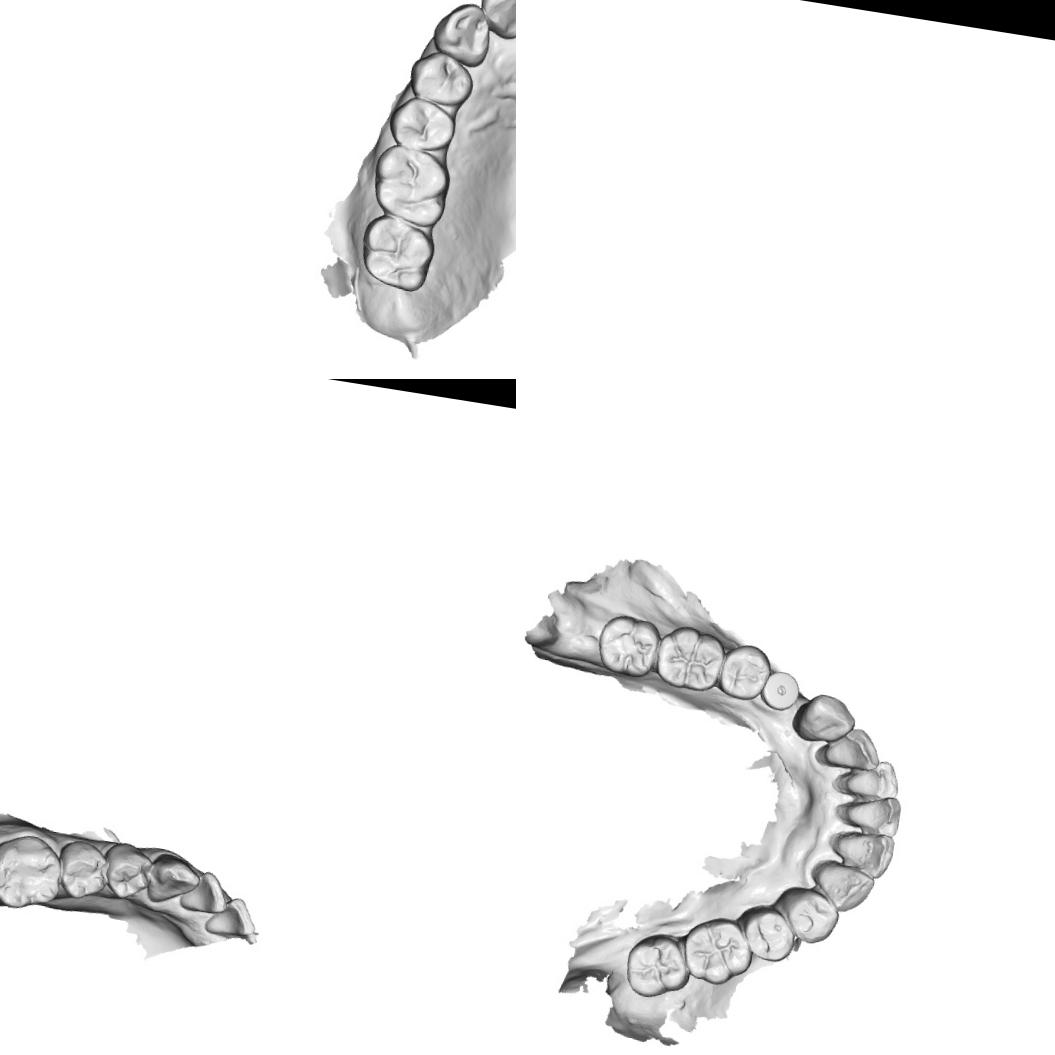canine: (801, 854, 880, 918), (427, 0, 497, 70), (789, 688, 859, 750), (141, 849, 205, 910)
implant: (756, 664, 802, 713)
incisor: (823, 822, 899, 882), (831, 750, 905, 806), (818, 720, 884, 780), (834, 788, 905, 838), (200, 890, 263, 945), (176, 865, 233, 920), (474, 0, 516, 44)
molar: (364, 140, 460, 231), (355, 211, 440, 297), (672, 912, 761, 994), (0, 825, 71, 917), (651, 616, 728, 695), (619, 927, 694, 1005), (592, 607, 667, 682)
premolar: (381, 90, 459, 156), (404, 44, 478, 112), (731, 900, 805, 968), (54, 830, 118, 906), (774, 882, 844, 950), (98, 836, 162, 906), (716, 637, 774, 706)
